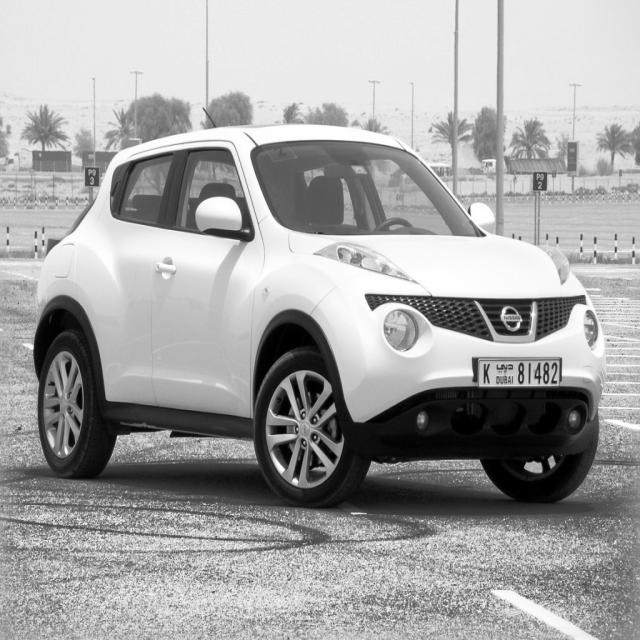car: (32, 119, 607, 508)
plat_license: (477, 356, 562, 386)
